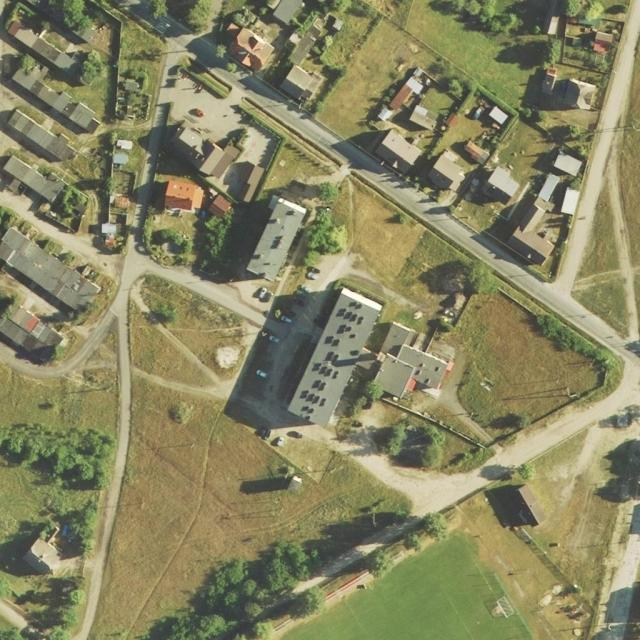agricultural_land: (91, 375, 419, 640), (317, 181, 480, 323), (107, 270, 260, 405), (0, 364, 118, 435)
building: (286, 286, 383, 430), (352, 313, 456, 417), (0, 226, 100, 316), (11, 55, 108, 136), (242, 195, 308, 284), (1, 108, 81, 171), (98, 137, 142, 250), (163, 121, 241, 184), (483, 472, 547, 541), (0, 301, 66, 367), (216, 18, 277, 76), (1, 151, 66, 205), (516, 172, 568, 239), (377, 67, 433, 129), (216, 155, 265, 206), (374, 128, 423, 176), (506, 222, 556, 269), (278, 59, 326, 107), (426, 148, 473, 197), (288, 16, 330, 67), (21, 535, 67, 581), (29, 35, 77, 74), (163, 179, 205, 213), (487, 165, 524, 198), (563, 78, 597, 111), (408, 103, 441, 132), (271, 0, 305, 26), (207, 193, 236, 221), (461, 139, 491, 166), (552, 151, 582, 177), (539, 65, 559, 96), (560, 187, 580, 215), (593, 31, 614, 56), (487, 106, 509, 126), (15, 26, 32, 43), (548, 15, 560, 36)
greenland: (0, 420, 117, 492), (115, 20, 167, 123)
unmetalled_road: (72, 236, 154, 640), (126, 100, 172, 235)
